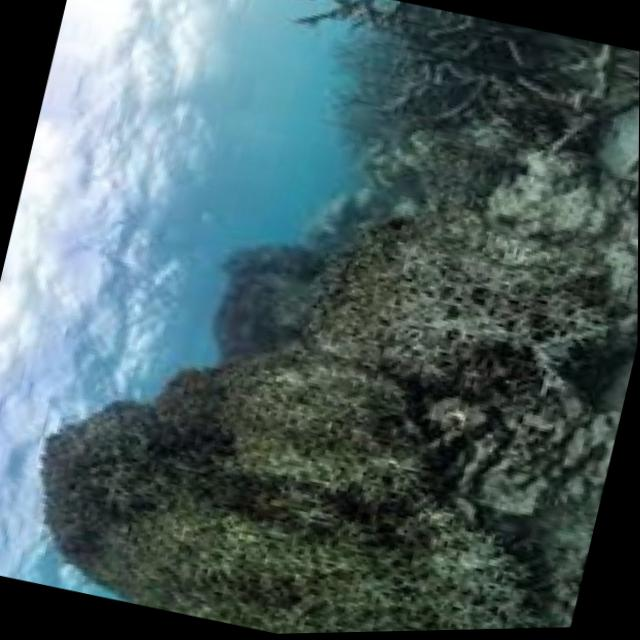Dead Coral: (11, 118, 639, 640), (253, 0, 640, 211)
